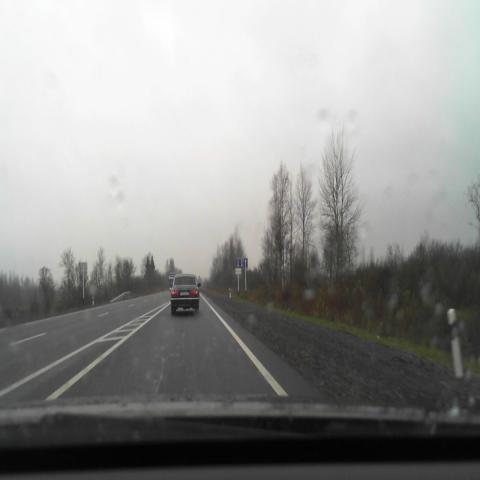5_15_7: (236, 257, 247, 268)
